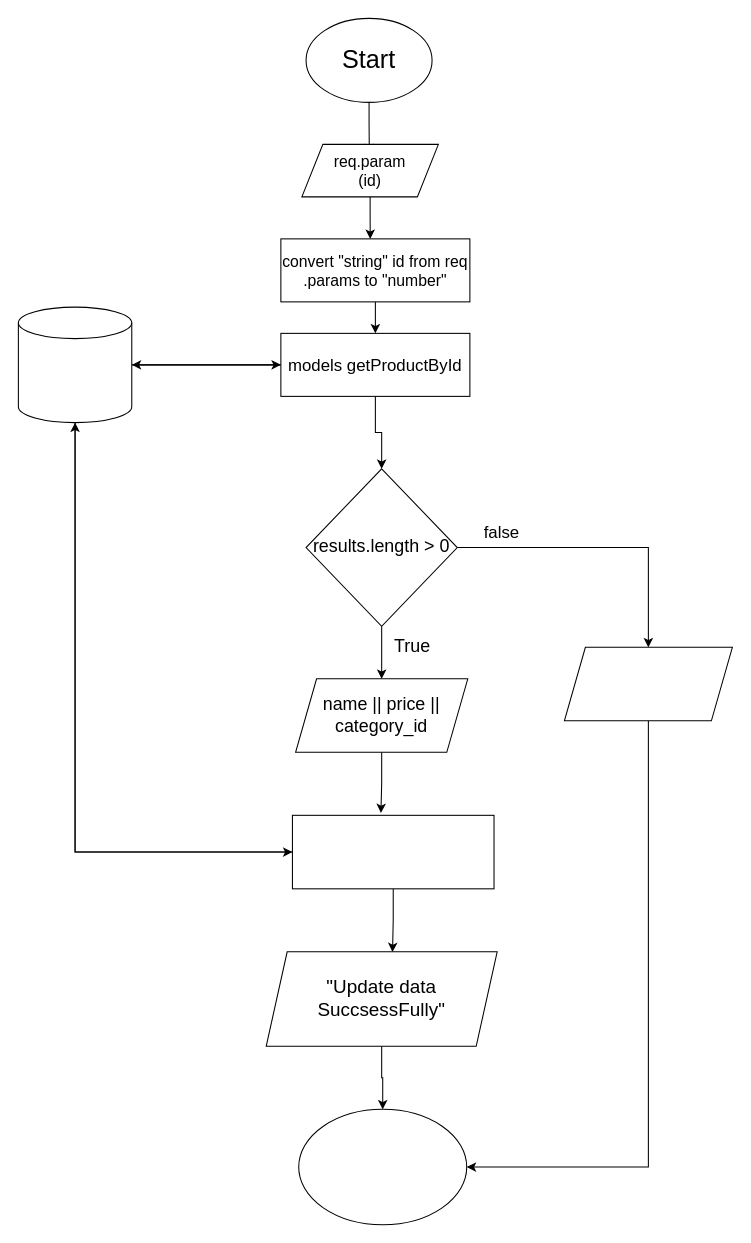
This 751x1243 diagram has some shape labels left out. Here are the shapes that lost their labels. From the top down, the centre of each, then its label:
the point at 74,364: DB
the point at 647,683: "Error, product not found"
the point at 392,851: Model : UpadtePatch
the point at 382,1166: End
